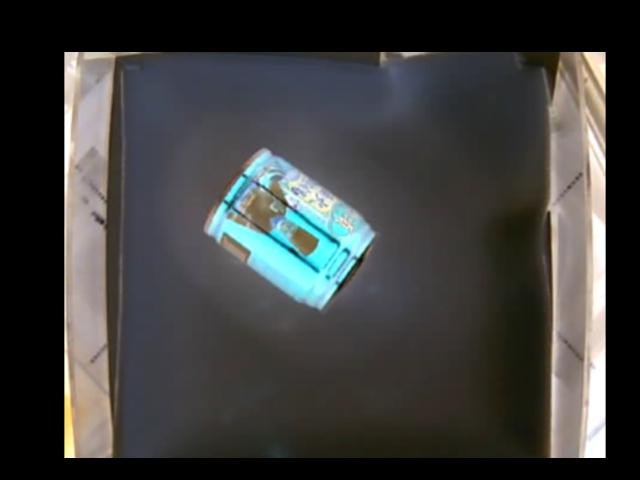Bottle: (205, 147, 378, 311)
